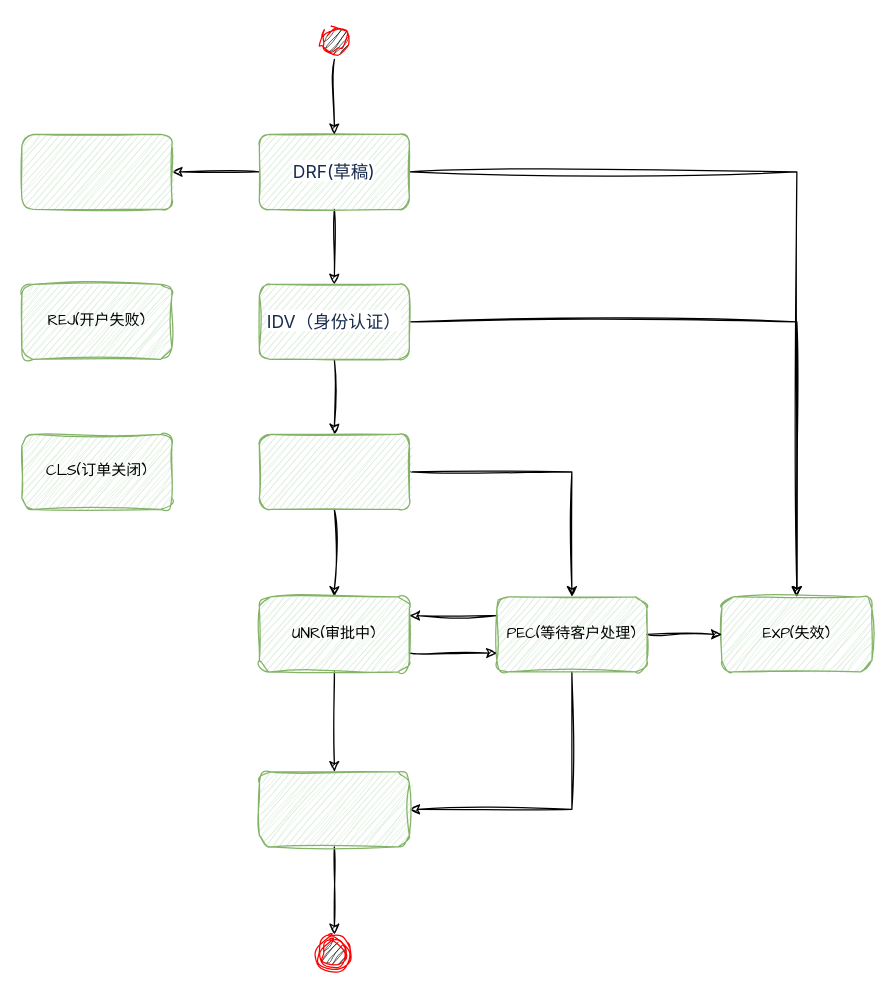
Image size: 894x994. Some labels were removed from this diagram. The shapes that lost their labels are listed below. From the top down, each one's box as (x1, y1, x2, y2) in pixels, then its label:
(21, 133, 172, 209): CAL(取消)
(258, 433, 409, 509): PRO( 系统处理 )
(258, 771, 409, 847): APV(审批通过)
